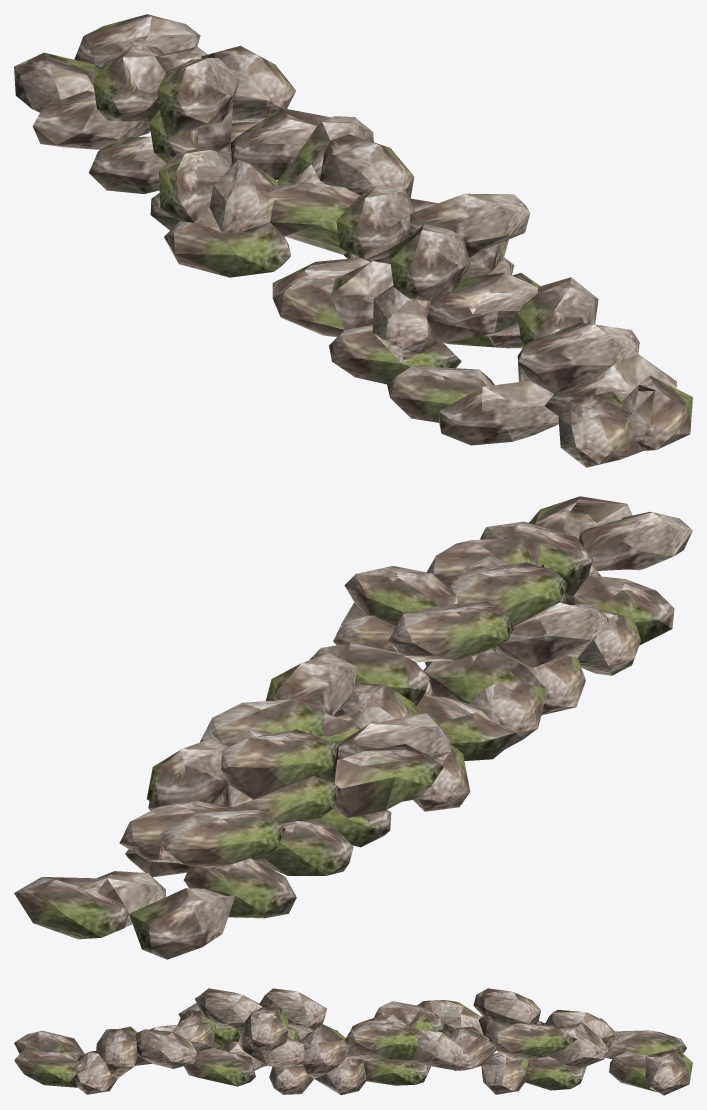
Rendered from fencesmall.glb.
The picture shows the model from 3 angles, top to bottom: view 1: azimuth 30°, elevation 25°; view 2: azimuth 150°, elevation 25°; view 3: azimuth 270°, elevation 25°; orthographic projection. The views are drawn at different scales.
Visible parts, largest first — view 1: Cube; view 2: Cube; view 3: Cube.
Part boxes in pixels (bbox=[...]): Cube: bbox=[14, 14, 692, 467]; Cube: bbox=[14, 496, 692, 959]; Cube: bbox=[14, 988, 692, 1095].
Size of the model in its own units: 2.29 by 1.16 by 9.22.
1 material, 1 textured.
